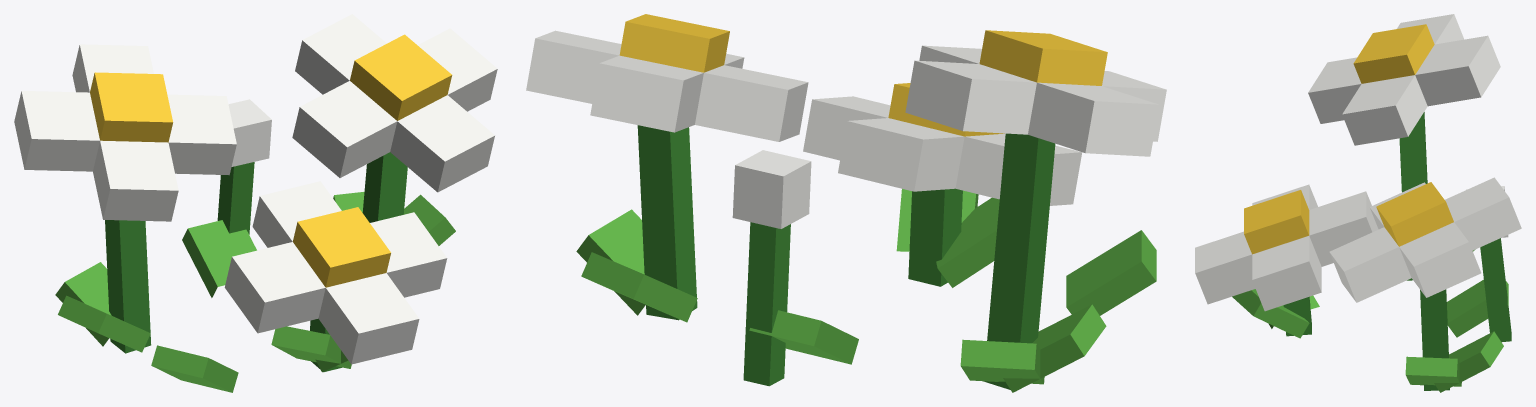
Rendered from Lobby_FlowerWhite.glb.
3 renders of one model, left to right at view 1: azimuth 30°, elevation 25°; view 2: azimuth 150°, elevation 25°; view 3: azimuth 270°, elevation 25°, orthographic. The views are drawn at different scales.
Parts seen in each view (by area): view 1: FlowerWhite_Petals, FlowerWhite_Centres, FlowerWhite_Leaves, FlowerWhite_Stems; view 2: FlowerWhite_Petals, FlowerWhite_Stems, FlowerWhite_Leaves, FlowerWhite_Centres; view 3: FlowerWhite_Petals, FlowerWhite_Centres, FlowerWhite_Leaves, FlowerWhite_Stems.
Part boxes in pixels (box(x1,y1,x2,y2)): FlowerWhite_Petals: box(14, 14, 497, 364); FlowerWhite_Centres: box(90, 34, 452, 287); FlowerWhite_Leaves: box(55, 191, 455, 392); FlowerWhite_Stems: box(105, 152, 407, 372); FlowerWhite_Petals: box(526, 30, 1166, 228); FlowerWhite_Stems: box(637, 125, 1055, 389); FlowerWhite_Leaves: box(576, 189, 1156, 392); FlowerWhite_Centres: box(619, 14, 1107, 136); FlowerWhite_Petals: box(1195, 14, 1521, 311); FlowerWhite_Centres: box(1244, 24, 1453, 254); FlowerWhite_Leaves: box(1232, 249, 1508, 392); FlowerWhite_Stems: box(1283, 112, 1511, 390).
Size of the model in its own units: 0.5143 by 0.2873 by 0.3554.
